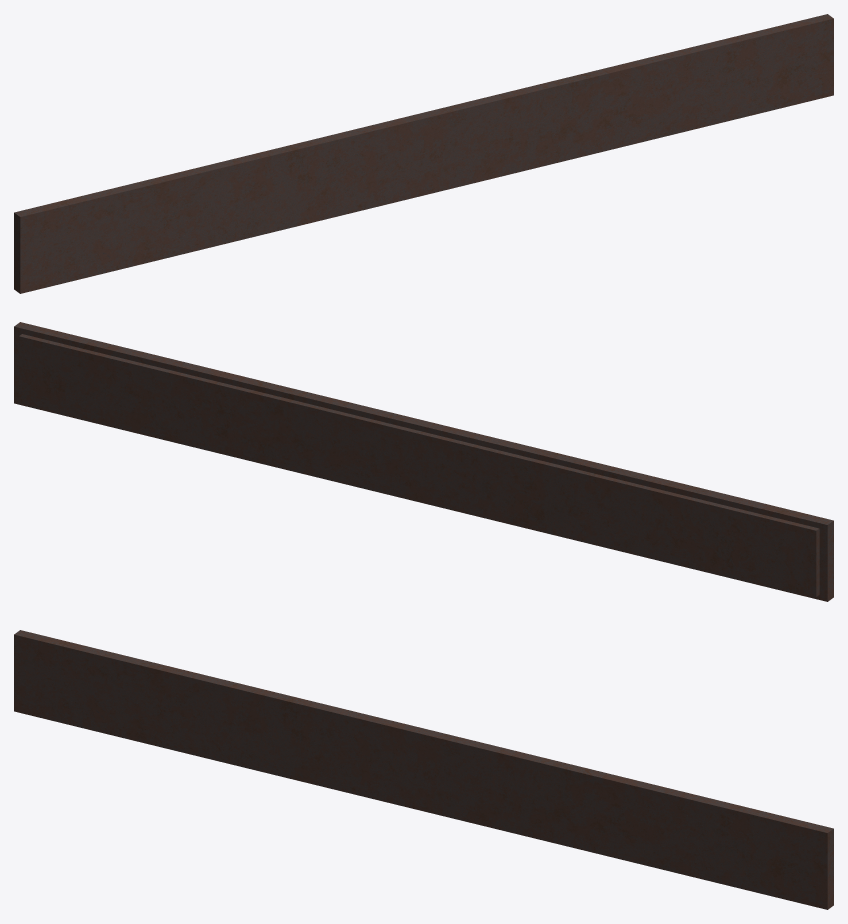
File: Backboard.fbx
3 views of the same model, one above another, from view 1: azimuth 30°, elevation 25°; view 2: azimuth 150°, elevation 25°; view 3: azimuth 330°, elevation 25° (orthographic).
Parts seen in each view (by area): view 1: Baked Backboard; view 2: Baked Backboard; view 3: Baked Backboard.
Part boxes in pixels (bbox=[...]): Baked Backboard: bbox=[14, 14, 833, 293]; Baked Backboard: bbox=[14, 322, 833, 601]; Baked Backboard: bbox=[14, 630, 833, 909].
Size of the model in its own units: 162 by 14.58 by 3.27.
1 material, 1 textured.
